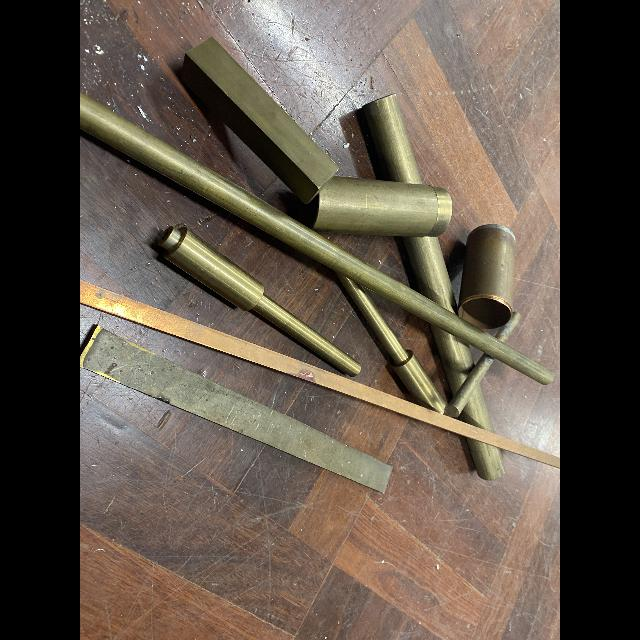Brass: (80, 92, 554, 385), (83, 330, 392, 493), (159, 224, 361, 376), (182, 38, 338, 204), (339, 275, 446, 412), (309, 177, 452, 237), (364, 94, 422, 184), (405, 237, 459, 316), (431, 324, 474, 396), (446, 354, 493, 418), (467, 437, 506, 479), (461, 384, 494, 433), (495, 312, 520, 342)
Copper: (80, 280, 560, 468), (459, 226, 515, 329)
